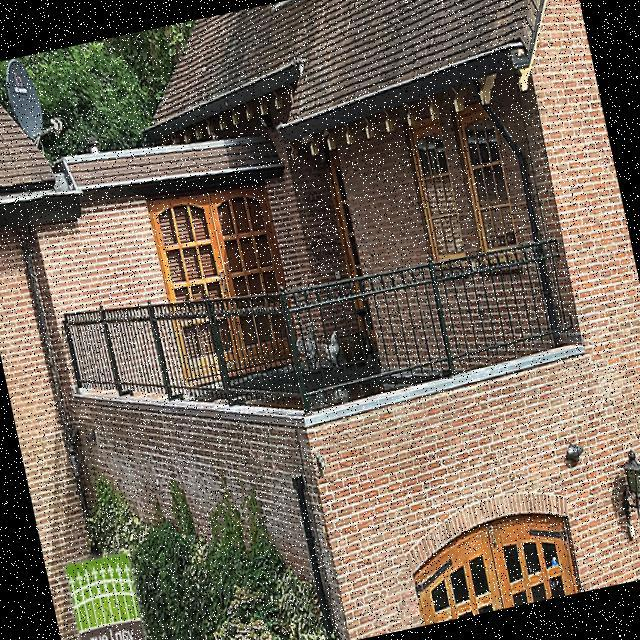fence line: (273, 228, 570, 416), (63, 267, 296, 421)
